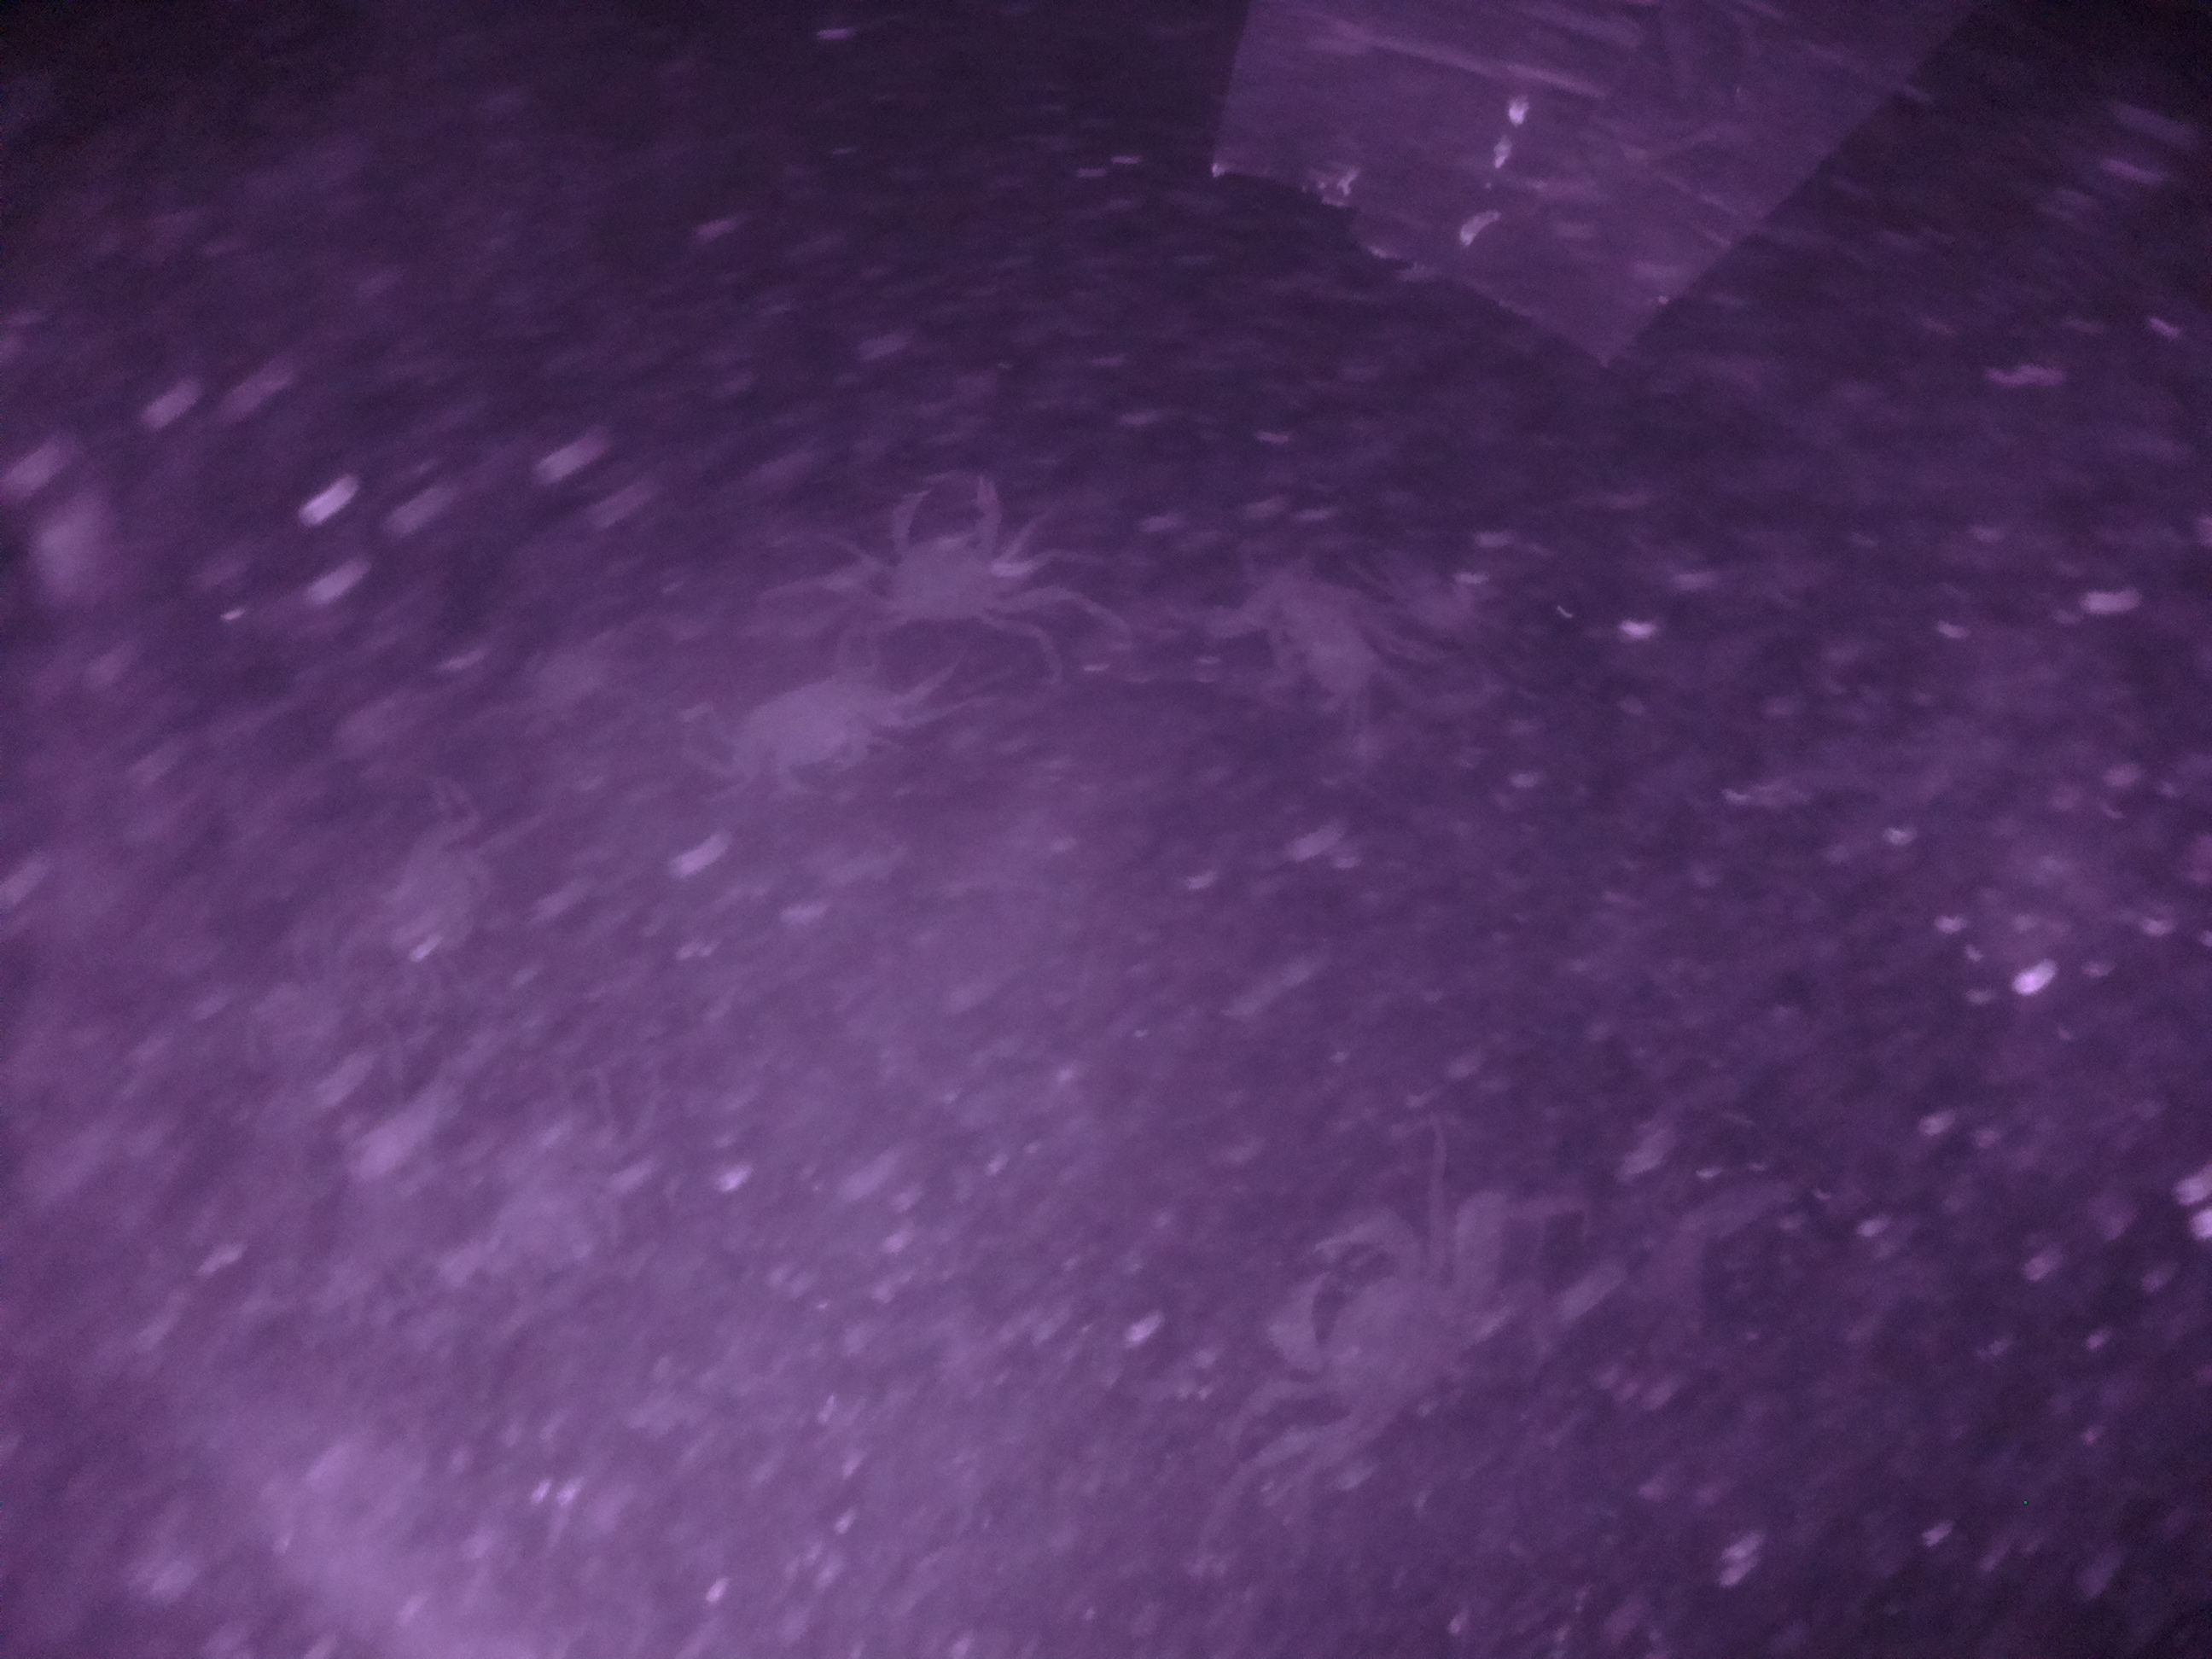Crab: (860, 467, 1036, 653)
